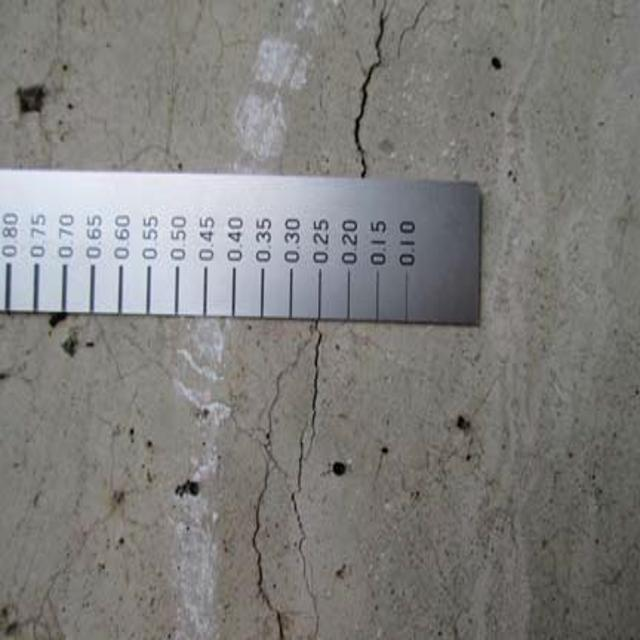crack: (240, 320, 351, 639), (350, 4, 410, 183)
